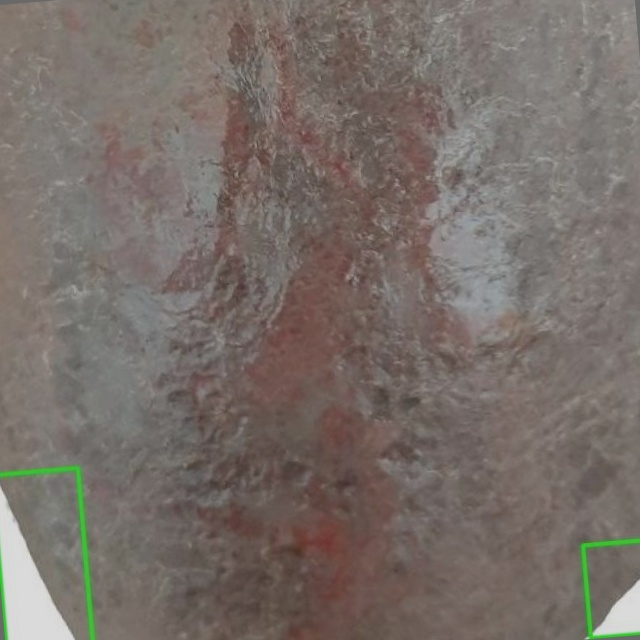Contact Dermatitis: (0, 469, 92, 639)
